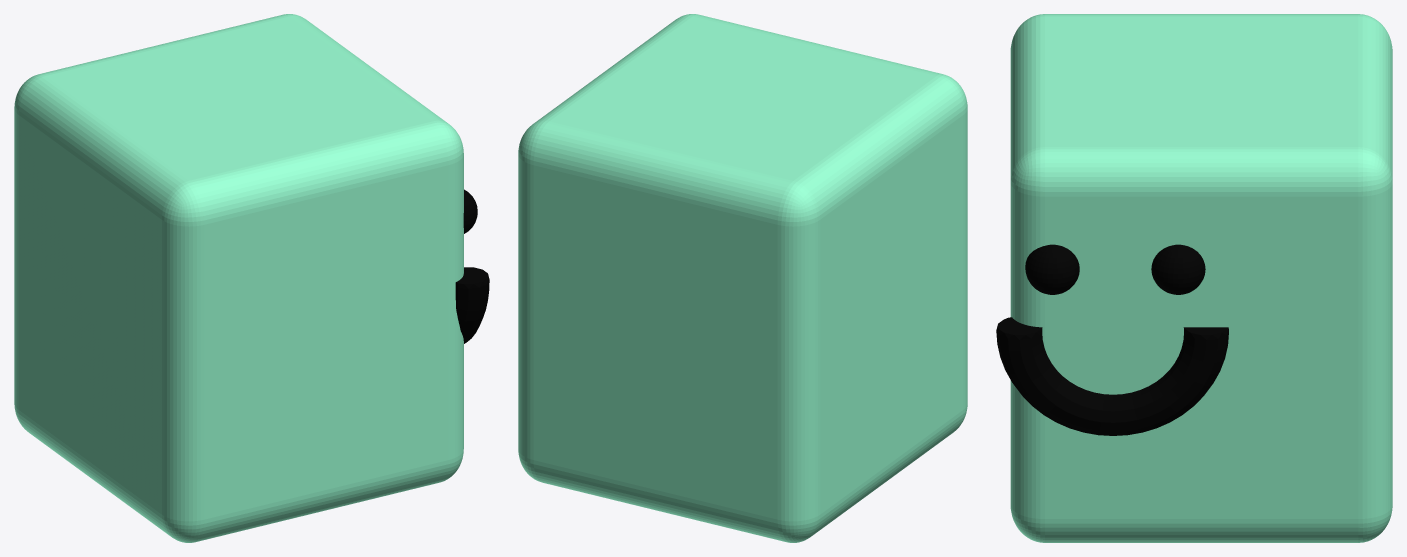
File: Chracter_LightGreen.glb
The picture shows the model from 3 angles, left to right: view 1: azimuth 30°, elevation 25°; view 2: azimuth 150°, elevation 25°; view 3: azimuth 270°, elevation 25°; orthographic projection. The views are drawn at different scales.
Parts seen in each view (by area): view 1: Chracter_LightGreen; view 2: Chracter_LightGreen; view 3: Chracter_LightGreen.
Part boxes in pixels (box(x1,y1,x2,y2)): Chracter_LightGreen: box(14, 14, 489, 542); Chracter_LightGreen: box(518, 14, 967, 542); Chracter_LightGreen: box(996, 14, 1392, 542).
Bounding box in the file's own units: 1.84 × 2 × 1.83.
